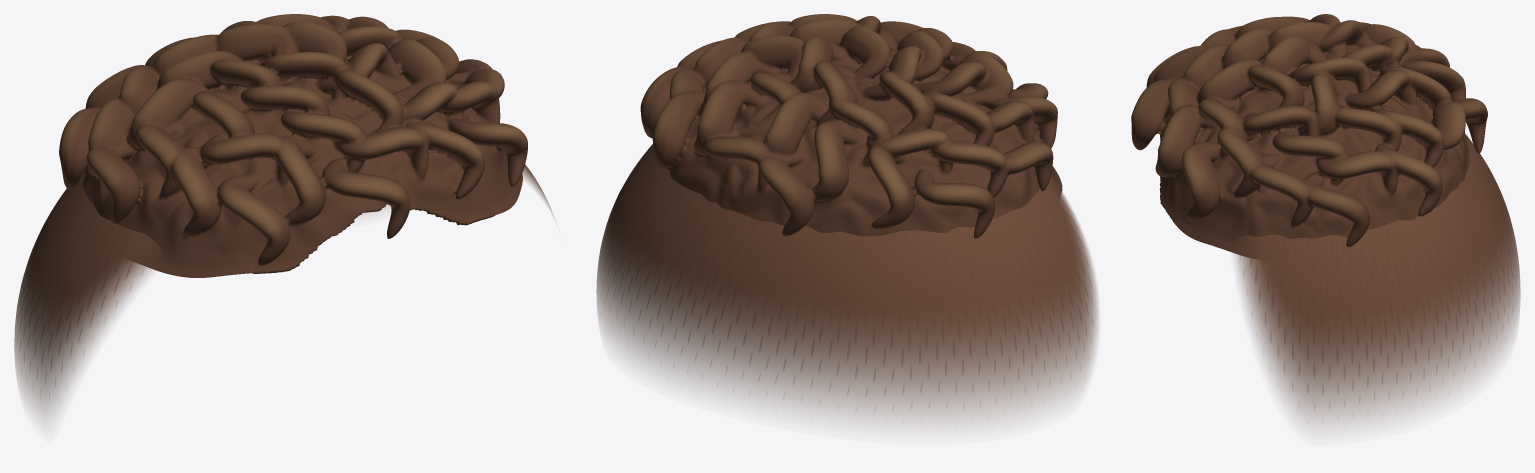
Rendered from Masculine-curly-top-hair258-ombre.glb.
The picture shows the model from 3 angles, left to right: view 1: azimuth 30°, elevation 25°; view 2: azimuth 150°, elevation 25°; view 3: azimuth 270°, elevation 25°; orthographic projection. The views are drawn at different scales.
Parts seen in each view (by area): view 1: 226 hair / Hair252 / sculpted curl groups, 226 hair / Hair258 / smooth side fade, 226 hair / Hair258 / directional fade marks; view 2: 226 hair / Hair258 / smooth side fade, 226 hair / Hair252 / sculpted curl groups, 226 hair / Hair258 / directional fade marks; view 3: 226 hair / Hair252 / sculpted curl groups, 226 hair / Hair258 / smooth side fade, 226 hair / Hair258 / directional fade marks.
Boxes of the visible parts, box(x1,y1,x2,y2) form: 226 hair / Hair252 / sculpted curl groups: box(59, 14, 527, 277); 226 hair / Hair258 / smooth side fade: box(14, 164, 555, 419); 226 hair / Hair258 / directional fade marks: box(15, 170, 159, 385); 226 hair / Hair258 / smooth side fade: box(596, 144, 1098, 424); 226 hair / Hair252 / sculpted curl groups: box(640, 14, 1062, 238); 226 hair / Hair258 / directional fade marks: box(608, 144, 1092, 395); 226 hair / Hair252 / sculpted curl groups: box(1131, 14, 1487, 258); 226 hair / Hair258 / smooth side fade: box(1233, 134, 1520, 426); 226 hair / Hair258 / directional fade marks: box(1238, 136, 1515, 408).
Bounding box in the file's own units: 0.9705 × 0.665 × 0.7492.
